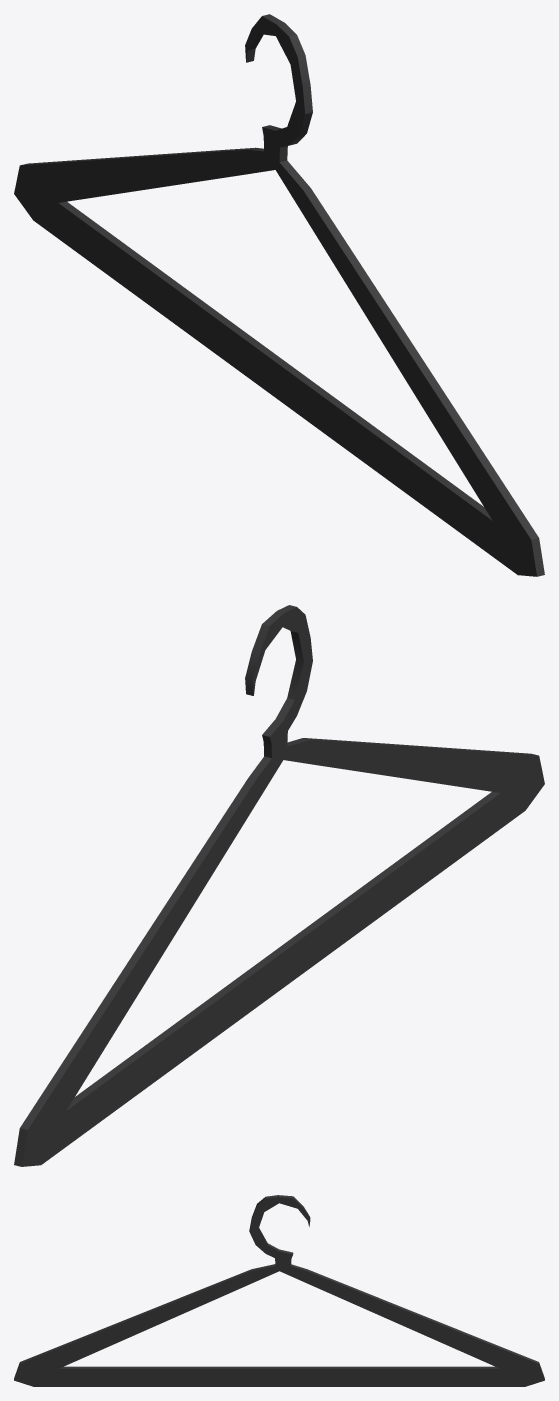
File: Hanger_C.FBX
The picture shows the model from 3 angles, top to bottom: view 1: azimuth 30°, elevation 25°; view 2: azimuth 150°, elevation 25°; view 3: azimuth 270°, elevation 25°; orthographic projection. The views are drawn at different scales.
Visible parts, largest first — view 1: Hanger; view 2: Hanger; view 3: Hanger.
Part boxes in pixels (<box>): Hanger: <box>14,14,544,576</box>; Hanger: <box>14,605,544,1166</box>; Hanger: <box>14,1195,544,1386</box>.
Size of the model in its own units: 1.01 by 45.57 by 115.
